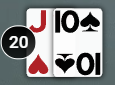10: (52, 9, 80, 35)
j: (27, 9, 53, 35)
